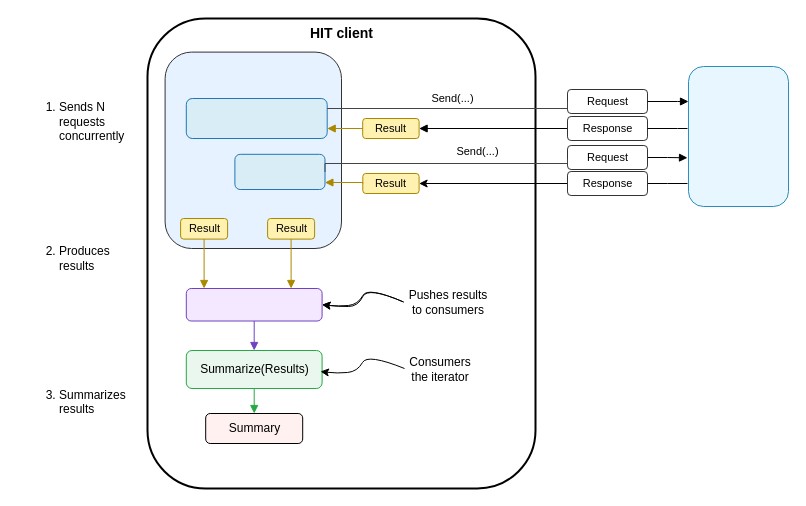
This 806x506 diagram has some shape labels left out. The shapes that lost their labels are listed below. From the top down, each one's box as (x1, y1, x2, y2) in pixels, then its label:
(185, 98, 327, 138): Goroutine #1
(688, 66, 788, 206): HTTP server
(164, 51, 342, 248): SendN(...)
(234, 153, 325, 190): Goroutine #2
(185, 288, 322, 321): Results iterator
